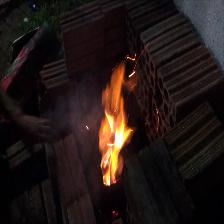fire: (89, 52, 161, 203)
